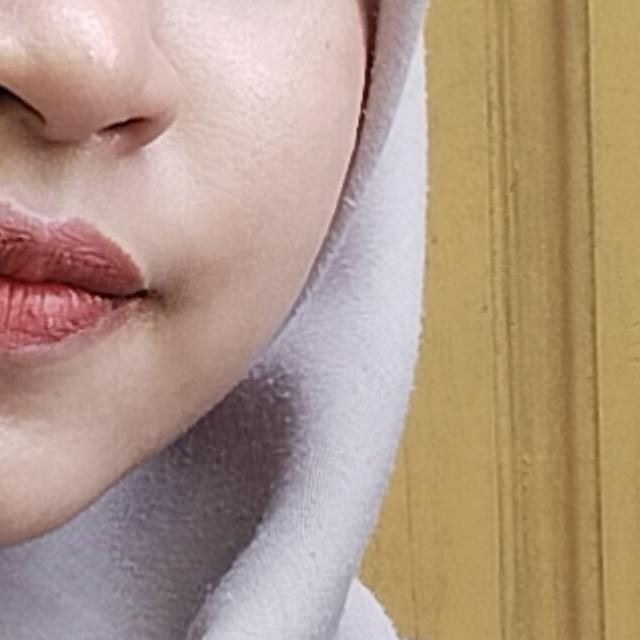baik: (416, 38, 640, 640)
